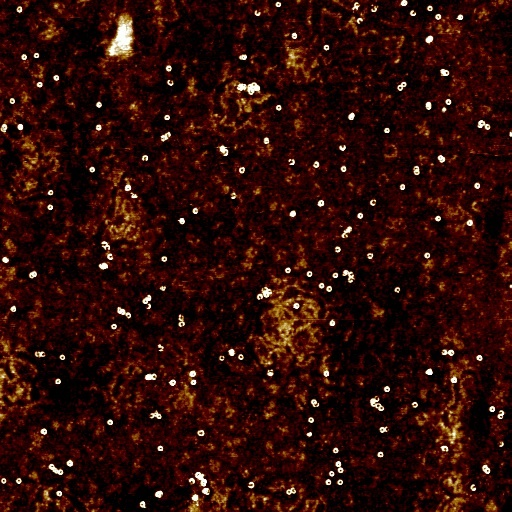-1: (104, 19, 138, 58), (339, 225, 355, 241), (247, 80, 262, 96), (342, 265, 356, 282), (196, 472, 211, 487), (369, 395, 384, 410), (480, 462, 493, 474), (345, 112, 357, 125), (286, 208, 298, 220), (262, 286, 274, 298), (219, 145, 229, 159), (202, 486, 213, 498), (96, 261, 109, 271), (423, 366, 434, 377), (156, 489, 167, 500), (265, 367, 276, 378), (27, 269, 39, 279), (190, 493, 201, 503), (436, 154, 448, 163), (229, 347, 237, 358), (17, 123, 25, 134), (2, 255, 10, 266), (261, 136, 270, 145), (306, 430, 314, 440), (158, 284, 168, 292), (237, 83, 245, 93), (117, 306, 125, 315), (146, 372, 152, 383), (130, 194, 139, 201), (178, 218, 185, 226), (240, 54, 247, 62), (438, 106, 446, 113), (53, 466, 59, 475), (507, 129, 510, 139)
1/4: (144, 303, 153, 312), (310, 403, 321, 410), (228, 192, 237, 199), (33, 349, 39, 359), (473, 125, 482, 130), (349, 7, 357, 11)
2/4: (365, 197, 379, 208), (97, 238, 112, 248), (335, 142, 348, 153), (496, 439, 507, 449), (368, 4, 378, 14), (407, 9, 417, 18), (158, 343, 166, 354), (189, 477, 197, 487), (355, 16, 363, 26), (286, 157, 294, 167), (103, 247, 114, 254), (253, 9, 261, 17), (385, 424, 391, 434), (150, 412, 156, 421), (352, 2, 360, 7)
3/4: (308, 159, 322, 171), (247, 478, 257, 490), (332, 244, 342, 255), (469, 482, 479, 492), (439, 443, 449, 453), (411, 399, 421, 409), (393, 284, 403, 294), (377, 424, 386, 435), (364, 251, 375, 260), (0, 123, 8, 135), (153, 370, 160, 382), (254, 293, 263, 302), (177, 321, 187, 329), (166, 79, 176, 87), (106, 254, 115, 262), (141, 155, 149, 164), (292, 487, 300, 495), (126, 311, 132, 321), (159, 135, 165, 145), (440, 348, 447, 356), (497, 413, 504, 420), (499, 408, 506, 415), (40, 351, 47, 358)
4/4: (437, 65, 451, 79), (464, 218, 476, 229), (196, 429, 209, 439), (379, 126, 393, 135), (421, 250, 433, 260), (168, 378, 179, 388), (218, 353, 228, 364), (453, 12, 464, 22), (156, 445, 168, 454), (475, 352, 485, 362), (109, 322, 119, 332), (54, 377, 64, 387), (315, 198, 325, 208), (355, 211, 365, 221), (139, 499, 148, 510), (399, 182, 408, 193), (338, 162, 346, 174), (487, 404, 497, 413), (449, 375, 459, 384), (324, 478, 333, 488), (283, 488, 293, 497), (123, 184, 132, 194), (305, 268, 314, 278), (448, 346, 456, 357), (328, 316, 336, 327), (435, 212, 442, 224), (66, 459, 75, 468), (45, 204, 54, 213), (189, 369, 198, 378), (94, 124, 103, 133), (273, 103, 282, 112), (19, 54, 28, 63), (289, 31, 298, 40), (424, 4, 433, 13), (291, 300, 300, 309), (331, 270, 340, 279), (331, 447, 341, 455), (9, 304, 17, 314), (52, 75, 62, 83), (434, 12, 442, 22), (443, 96, 451, 106), (383, 384, 391, 393), (336, 479, 345, 487), (323, 369, 331, 378), (107, 419, 116, 427), (191, 378, 199, 387), (40, 428, 49, 436), (95, 101, 103, 110), (35, 82, 44, 90), (273, 0, 282, 8), (399, 80, 408, 88), (412, 170, 421, 178), (326, 284, 334, 293), (309, 396, 318, 404), (1, 477, 9, 486), (59, 352, 66, 362), (474, 180, 481, 190), (410, 164, 421, 170), (337, 467, 345, 475), (238, 166, 246, 174), (317, 280, 325, 288), (239, 353, 246, 362), (55, 490, 64, 497), (9, 98, 16, 107), (476, 118, 485, 125), (308, 417, 316, 424), (16, 477, 23, 485), (160, 256, 168, 263), (47, 189, 54, 197), (165, 64, 172, 72), (33, 52, 40, 60), (400, 0, 408, 7), (484, 123, 491, 131), (284, 266, 292, 273), (376, 451, 385, 457), (16, 6, 22, 15), (330, 471, 337, 478), (48, 463, 55, 470), (322, 44, 329, 51), (89, 167, 95, 175), (192, 208, 198, 216), (395, 85, 401, 93), (336, 461, 342, 468), (158, 415, 165, 421), (59, 469, 65, 476), (164, 114, 170, 121)
